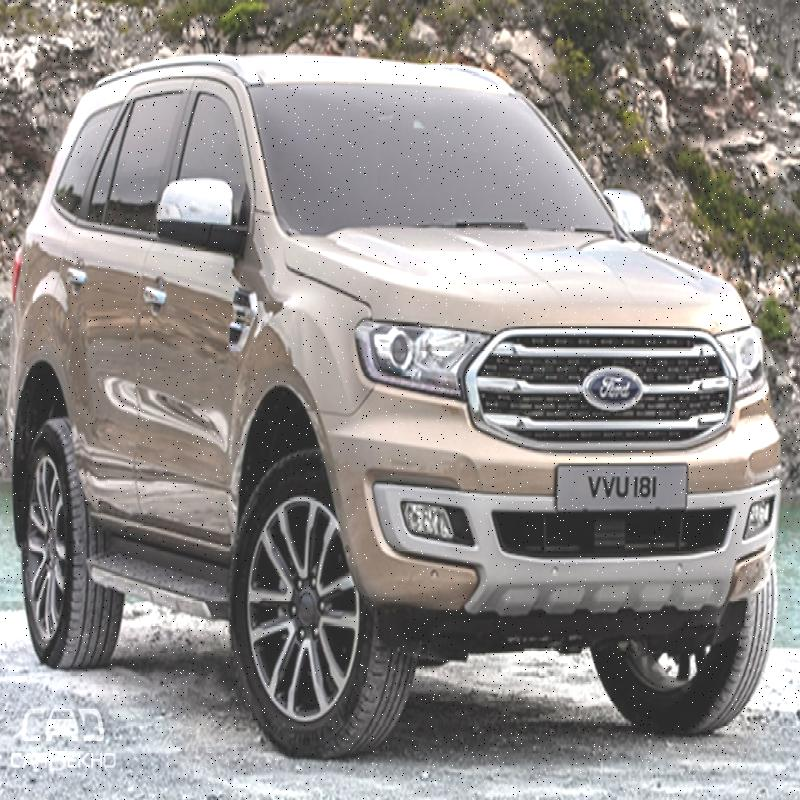car: (13, 45, 784, 737)
